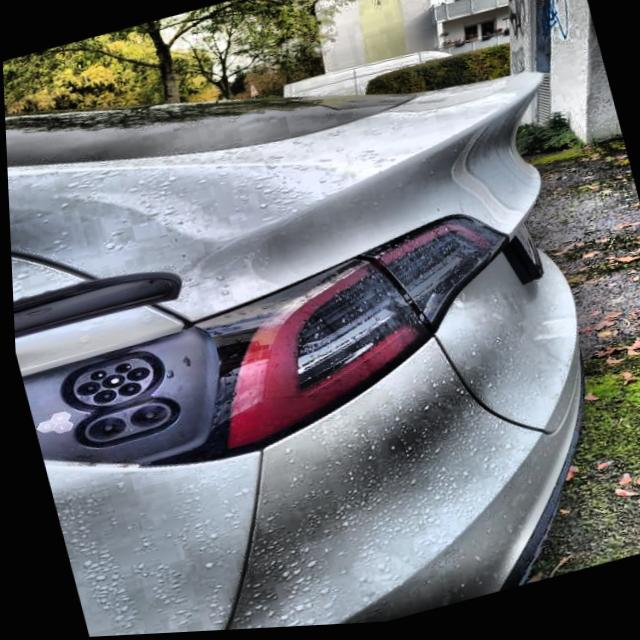inlet: (69, 360, 149, 406)
inlet-above-left: (86, 371, 103, 381)
inlet-above-right: (111, 364, 128, 374)
inlet-below-left: (89, 390, 113, 404)
inlet-below-right: (114, 383, 138, 398)
inlet-center: (97, 375, 121, 389)
inlet-center-left: (74, 382, 96, 396)
inlet-center-right: (122, 368, 146, 382)
